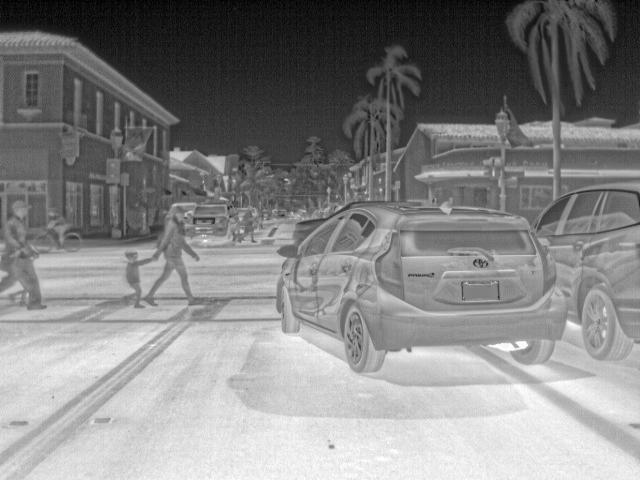car: (273, 196, 567, 370), (534, 178, 637, 361), (193, 202, 227, 236)
person: (143, 204, 208, 310), (0, 198, 49, 308), (122, 246, 154, 306), (47, 209, 74, 246), (242, 205, 259, 243)
